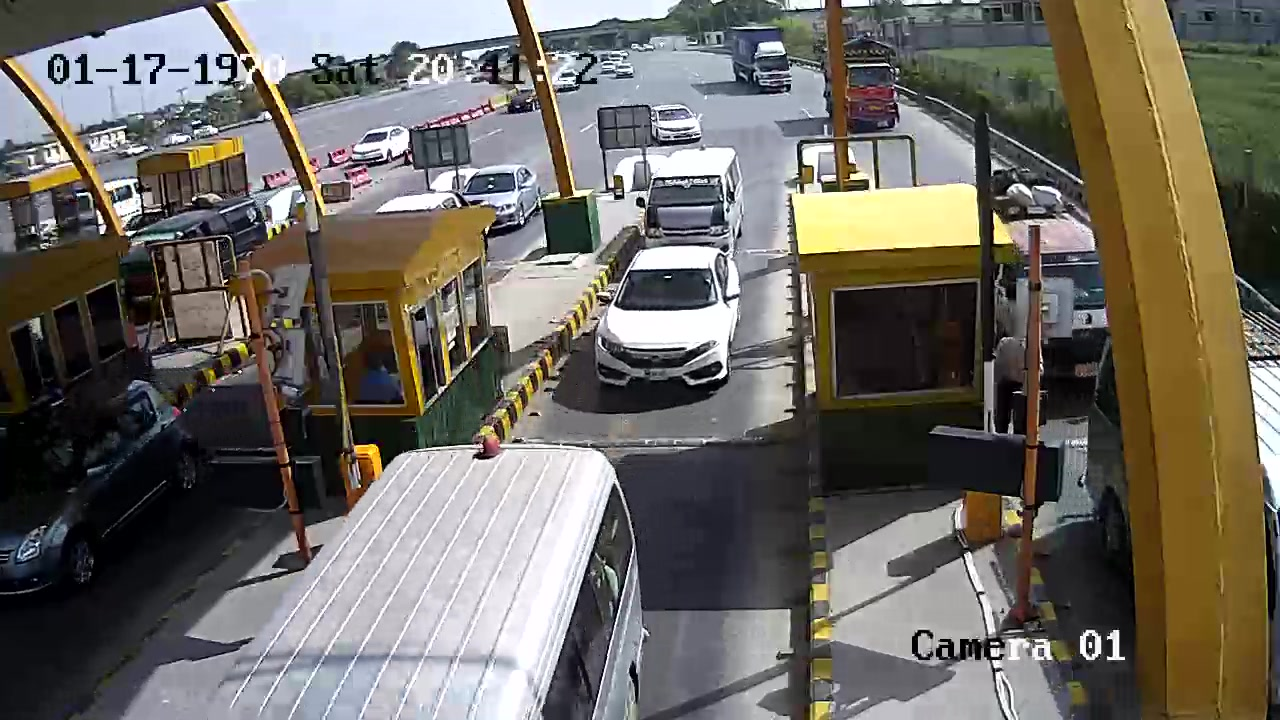F1: (585, 242, 749, 413)
F3: (630, 142, 751, 247)
